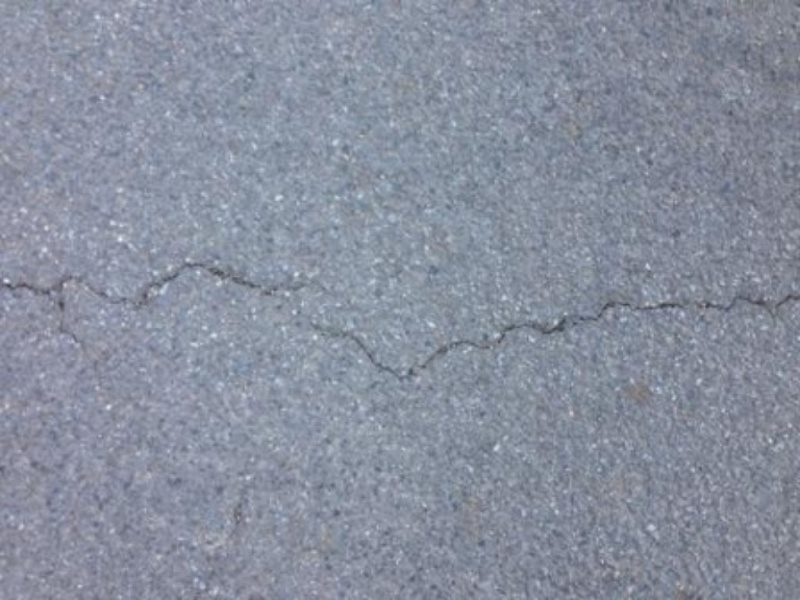crack: (6, 210, 799, 388)
